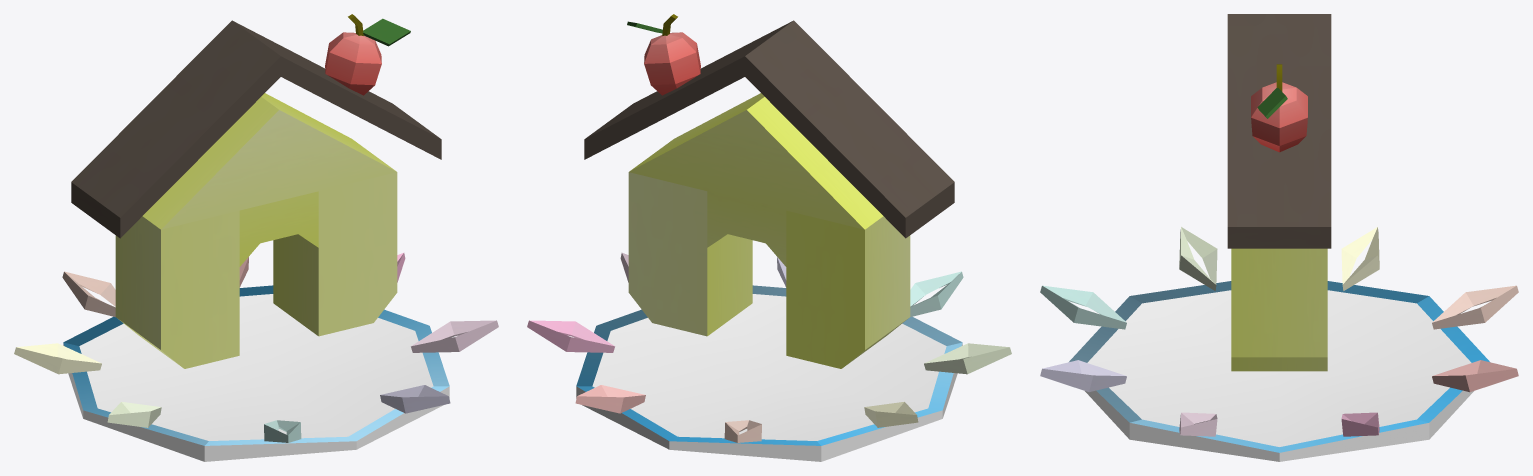
File: SM_Button_BackMenu.fbx
The picture shows the model from 3 angles, left to right: view 1: azimuth 30°, elevation 25°; view 2: azimuth 150°, elevation 25°; view 3: azimuth 270°, elevation 25°; orthographic projection. The views are drawn at different scales.
Visible parts, largest first — view 1: SM_Button_BackMenu; view 2: SM_Button_BackMenu; view 3: SM_Button_BackMenu.
Part boxes in pixels (x1=…): SM_Button_BackMenu: x1=14, y1=14, x2=498, y2=461; SM_Button_BackMenu: x1=527, y1=14, x2=1011, y2=461; SM_Button_BackMenu: x1=1040, y1=14, x2=1518, y2=461.
Size of the model in its own units: 19.83 by 17.43 by 19.83.
